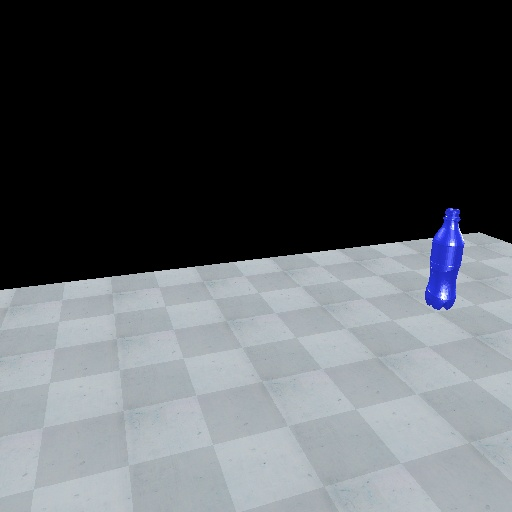bottle: (421, 206, 468, 314)
